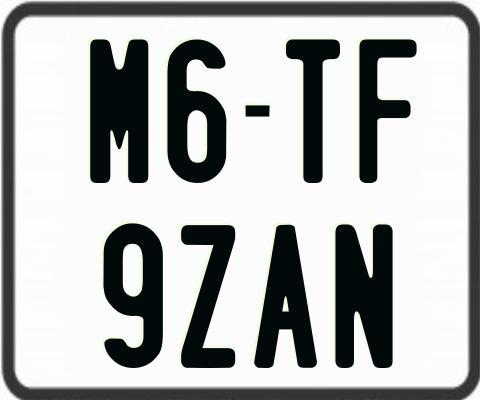6: (167, 36, 228, 186)
9: (103, 221, 168, 368)
A: (251, 225, 315, 373)
F: (359, 36, 417, 183)
M: (90, 36, 149, 185)
N: (334, 223, 398, 371)
T: (285, 38, 340, 185)
Z: (178, 224, 232, 368)
